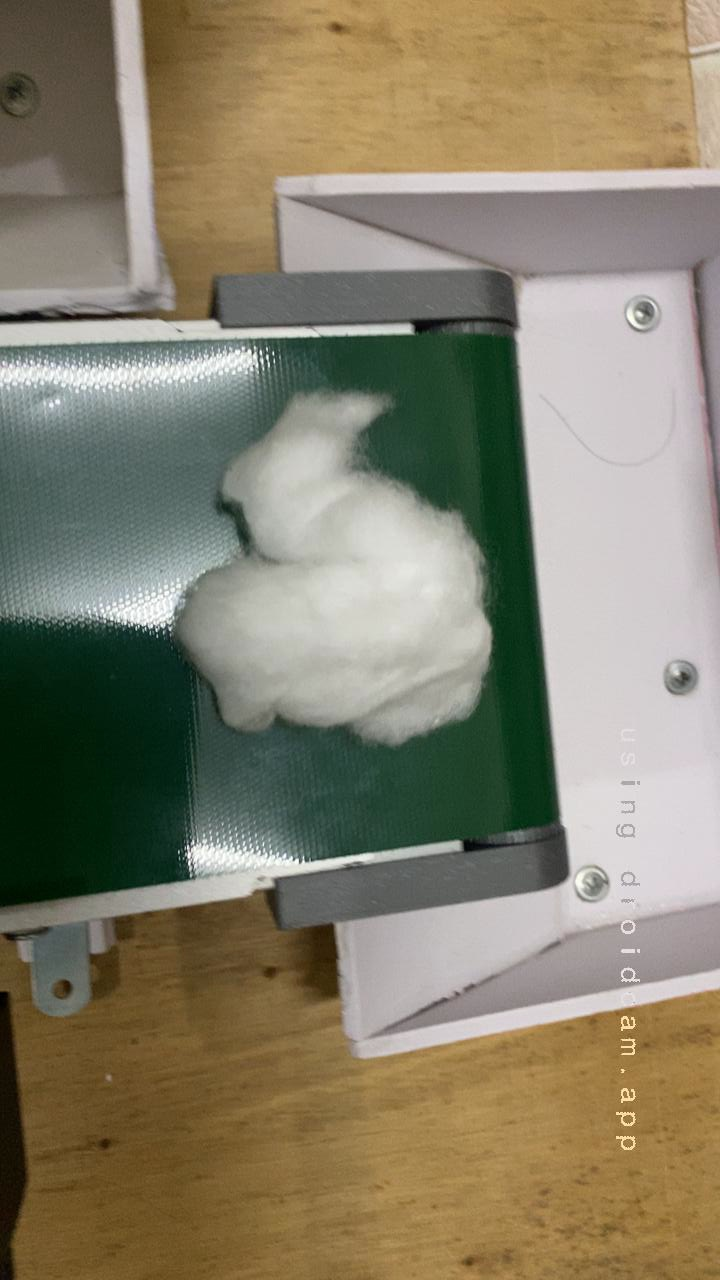cotton: (126, 359, 525, 764)
